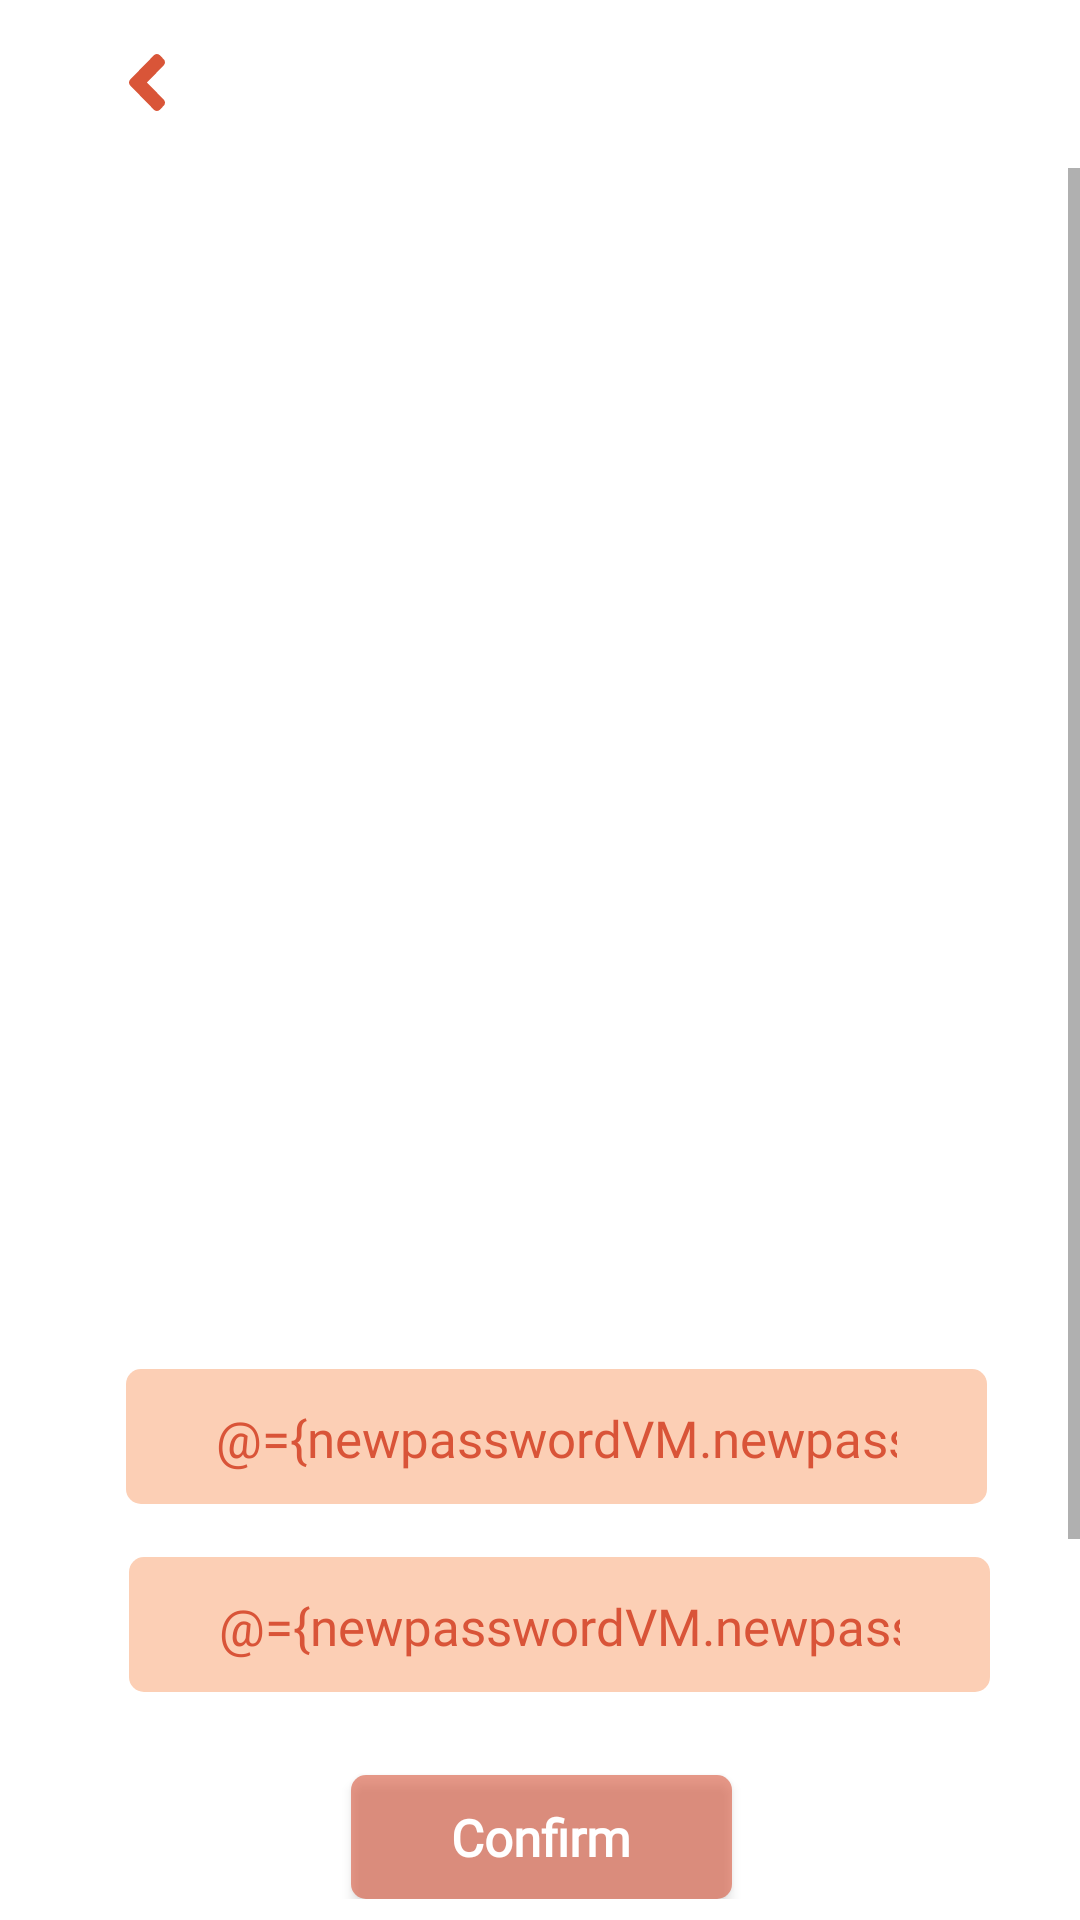

Screen size 1080 x 1920. Icon name, then its center in pixels as (x=x, y=y):
back: (x=147, y=82)
